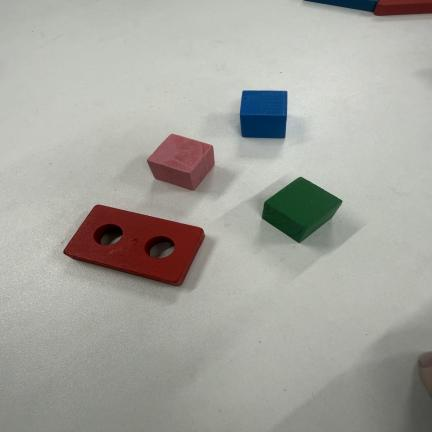BuildingBlocks: (64, 205, 204, 285), (263, 177, 342, 242), (148, 135, 214, 189), (240, 91, 287, 138), (374, 0, 431, 15), (307, 0, 377, 11)
